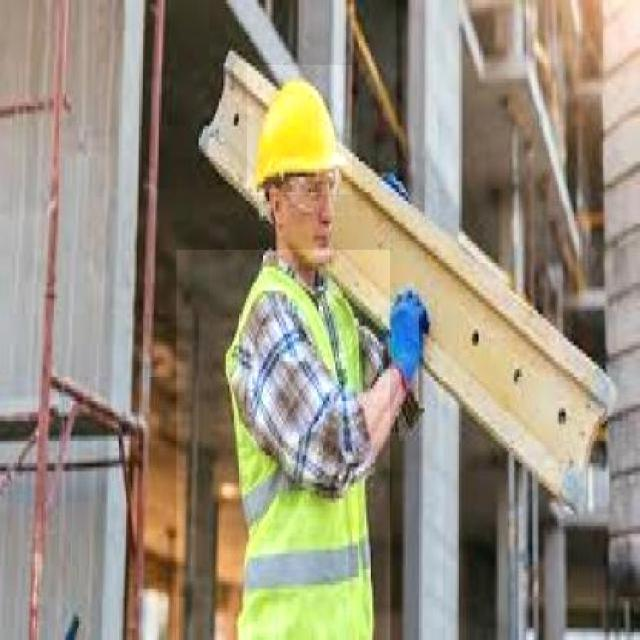Helmet: (247, 65, 352, 195)
Safety Vest: (176, 250, 390, 640)
